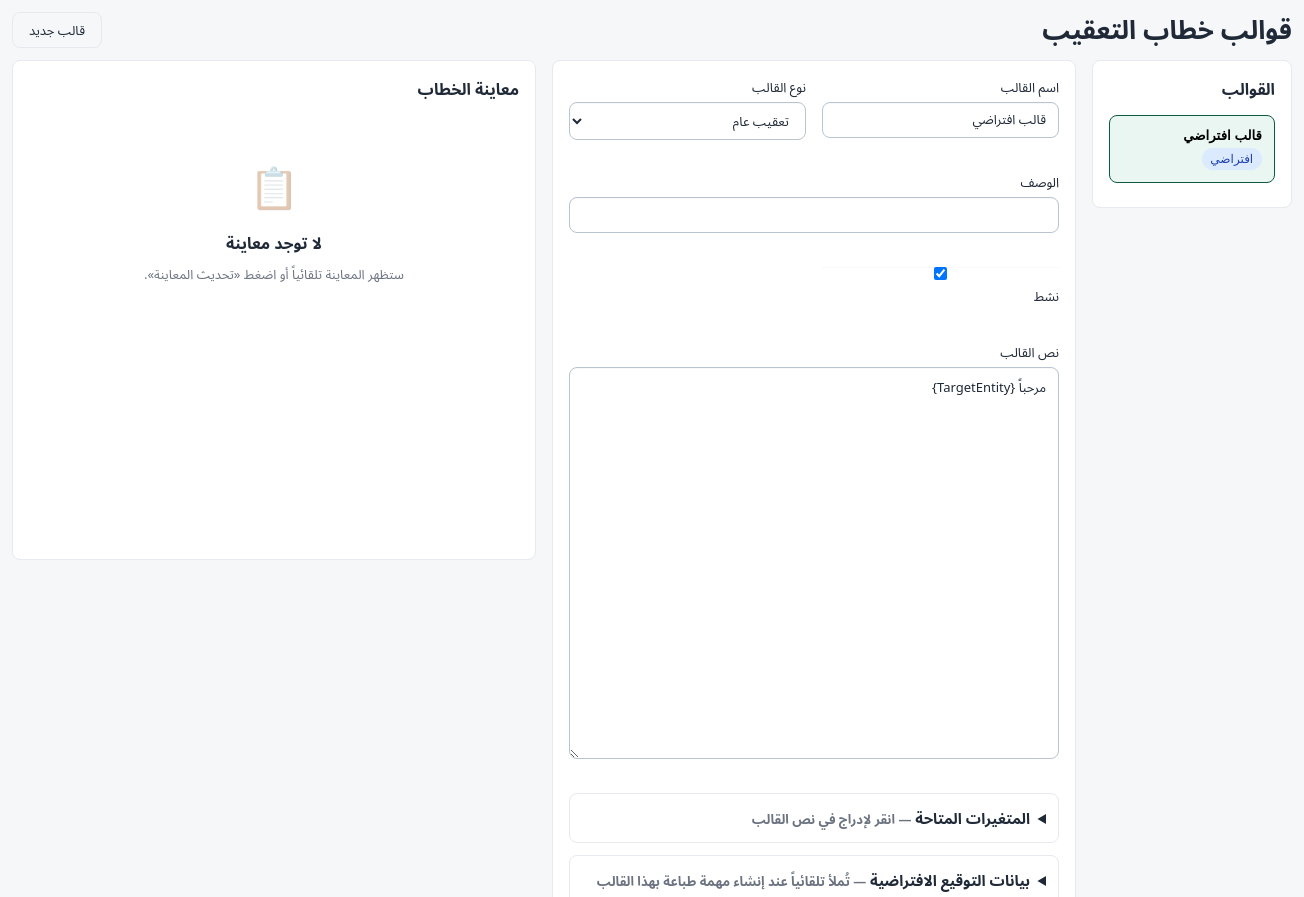
Scenario: LetterTemplatePage › loads templates and shows unsaved warning after edit
Expected: the field showing "قالب افتراضي" is shown, x1=822 y1=102 x2=1059 y2=138
Type "!" into the text box labelled "نص القالب". click: (814, 563)
box: x1=569 y1=367 x2=1059 y2=760
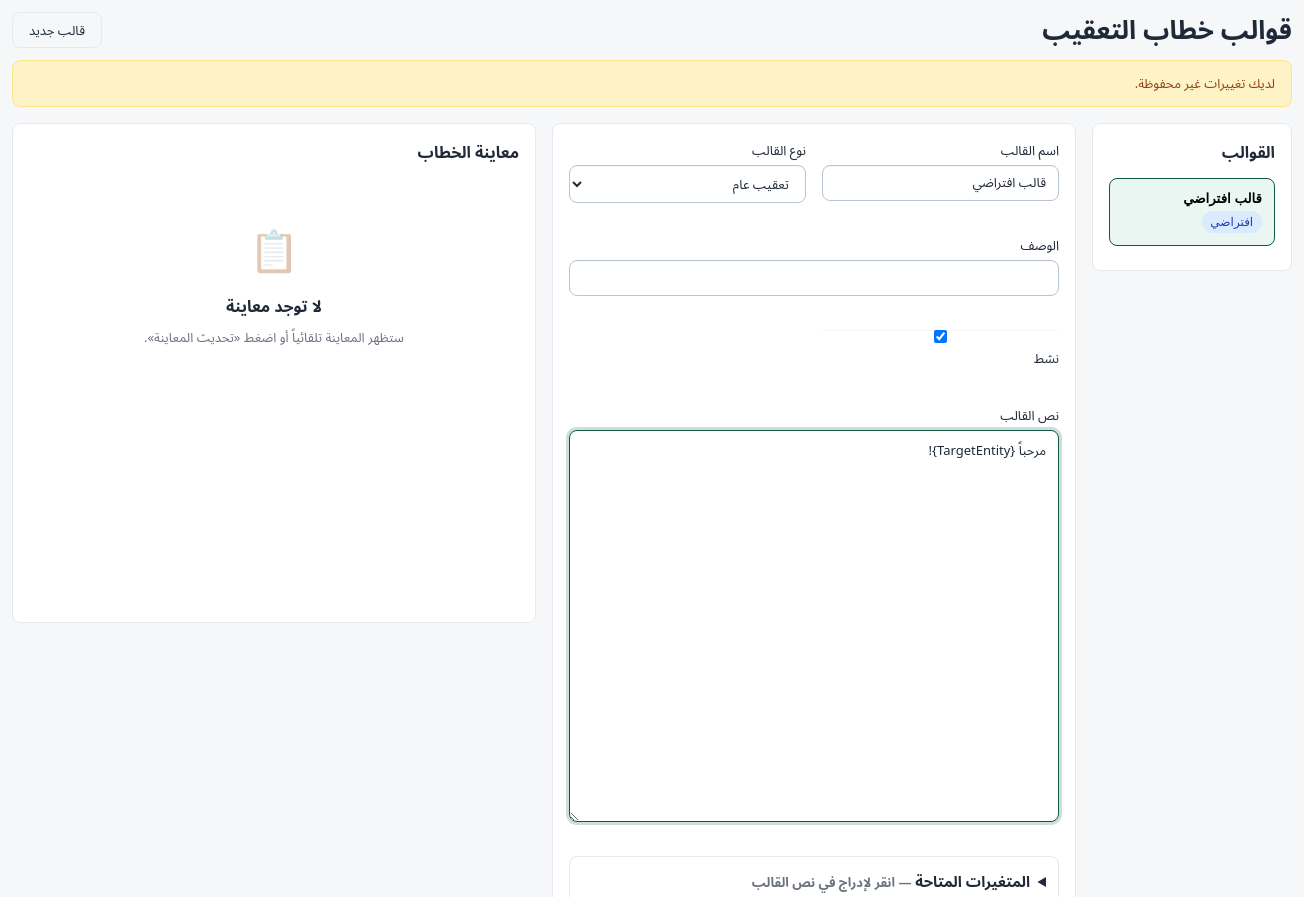
Expected: the text "لديك تغييرات غير محفوظة." is shown, x1=12 y1=60 x2=1292 y2=107
